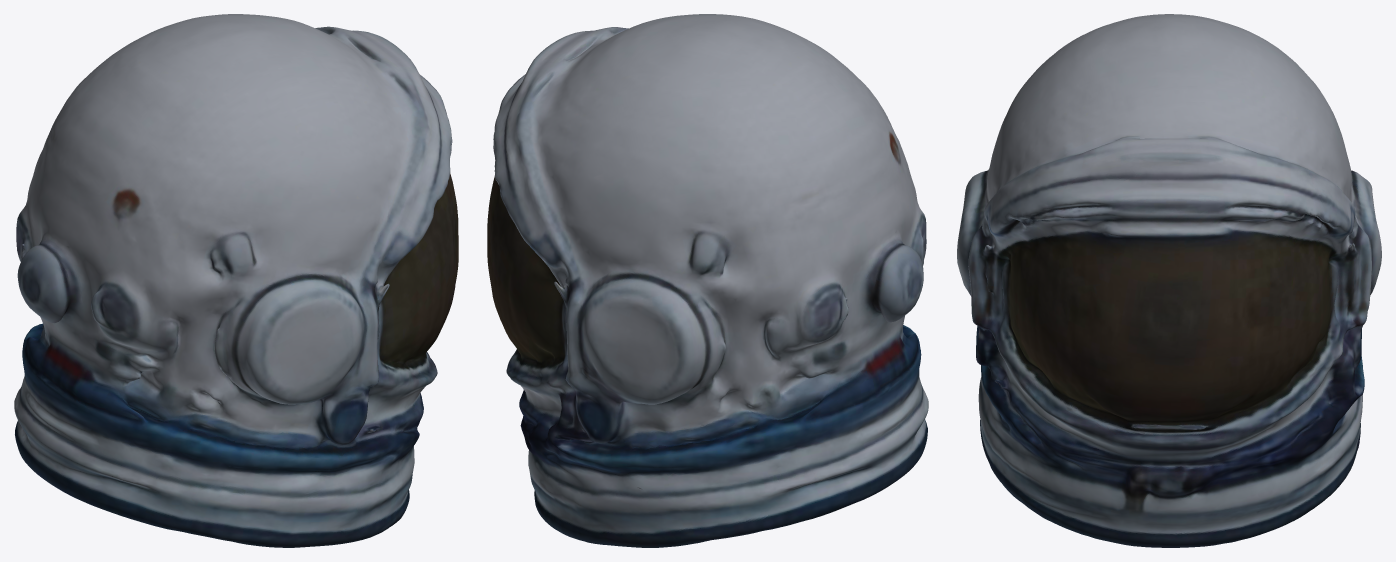
File: 3e49399dcccb_astronaut_helmet__3.fbx
3 renders of one model, left to right at view 1: azimuth 30°, elevation 25°; view 2: azimuth 150°, elevation 25°; view 3: azimuth 270°, elevation 25°, orthographic. The views are drawn at different scales.
Parts seen in each view (by area): view 1: high_poly; view 2: high_poly; view 3: high_poly.
Part boxes in pixels (x1,y1,x2,y2): high_poly: [14, 14, 458, 547]; high_poly: [487, 14, 928, 547]; high_poly: [957, 14, 1381, 547].
Bounding box in the file's own units: 90.31 × 100 × 85.96.
